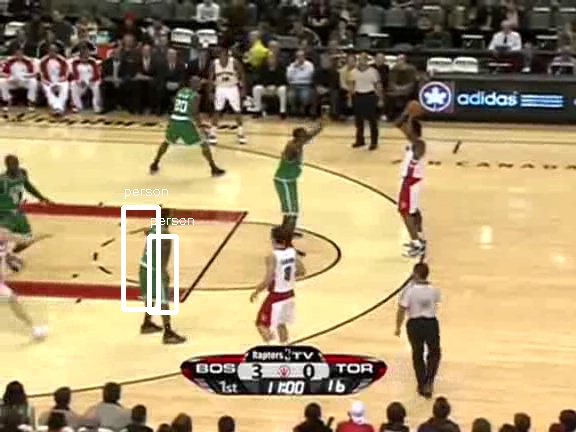person: (141, 225, 175, 306), (140, 225, 174, 306), (142, 225, 176, 306), (141, 224, 175, 305), (141, 226, 175, 307)
target_negative: (114, 206, 477, 353), (322, 161, 438, 331), (430, 114, 509, 215), (480, 230, 568, 308), (218, 408, 438, 429), (469, 422, 537, 431)
